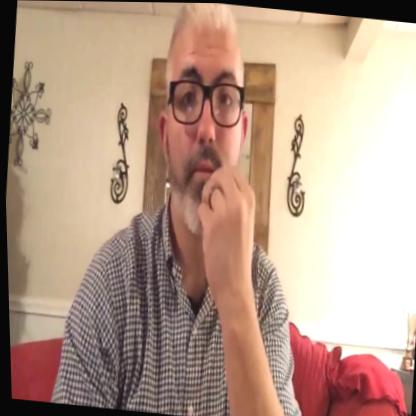Food: (144, 2, 288, 331)
